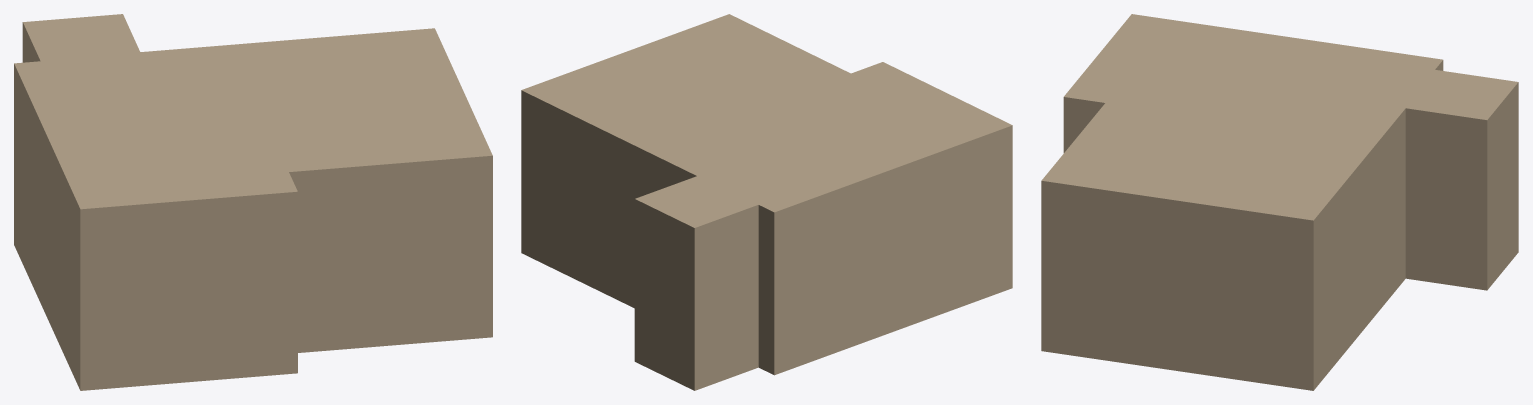
File: bld_99532013.dae
The picture shows the model from 3 angles, left to right: view 1: azimuth 30°, elevation 25°; view 2: azimuth 150°, elevation 25°; view 3: azimuth 270°, elevation 25°; orthographic projection. The views are drawn at different scales.
Visible parts, largest first — view 1: bld_99532013; view 2: bld_99532013; view 3: bld_99532013.
Part boxes in pixels (left/top/right/bottom): bld_99532013: left=14, top=14, right=492, bottom=390; bld_99532013: left=521, top=14, right=1012, bottom=390; bld_99532013: left=1041, top=14, right=1518, bottom=390.
Bounding box in the file's own units: 20.8 × 20.31 × 8.
